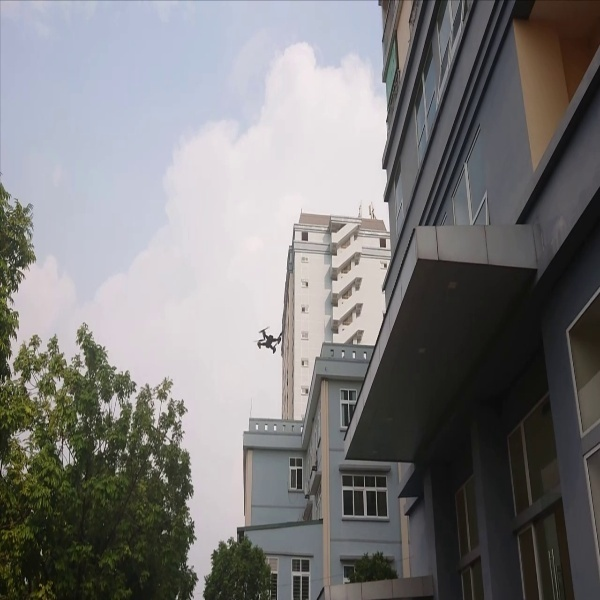drone: (249, 324, 292, 353)
